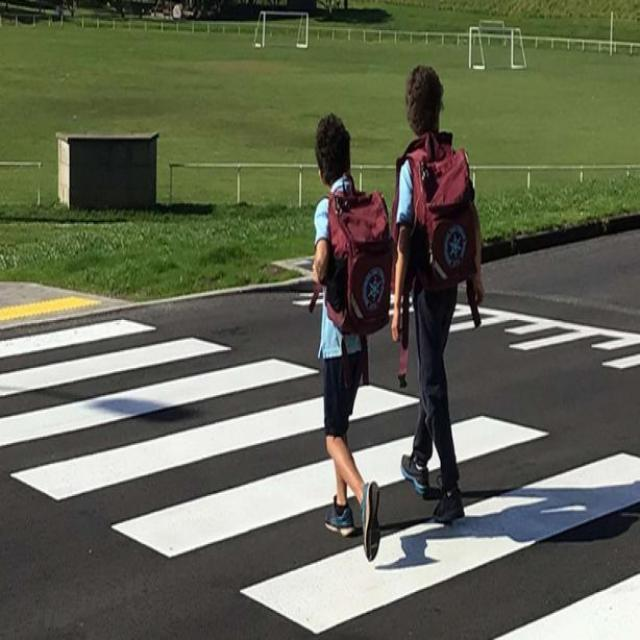pedestrian lane: (0, 320, 640, 640)
